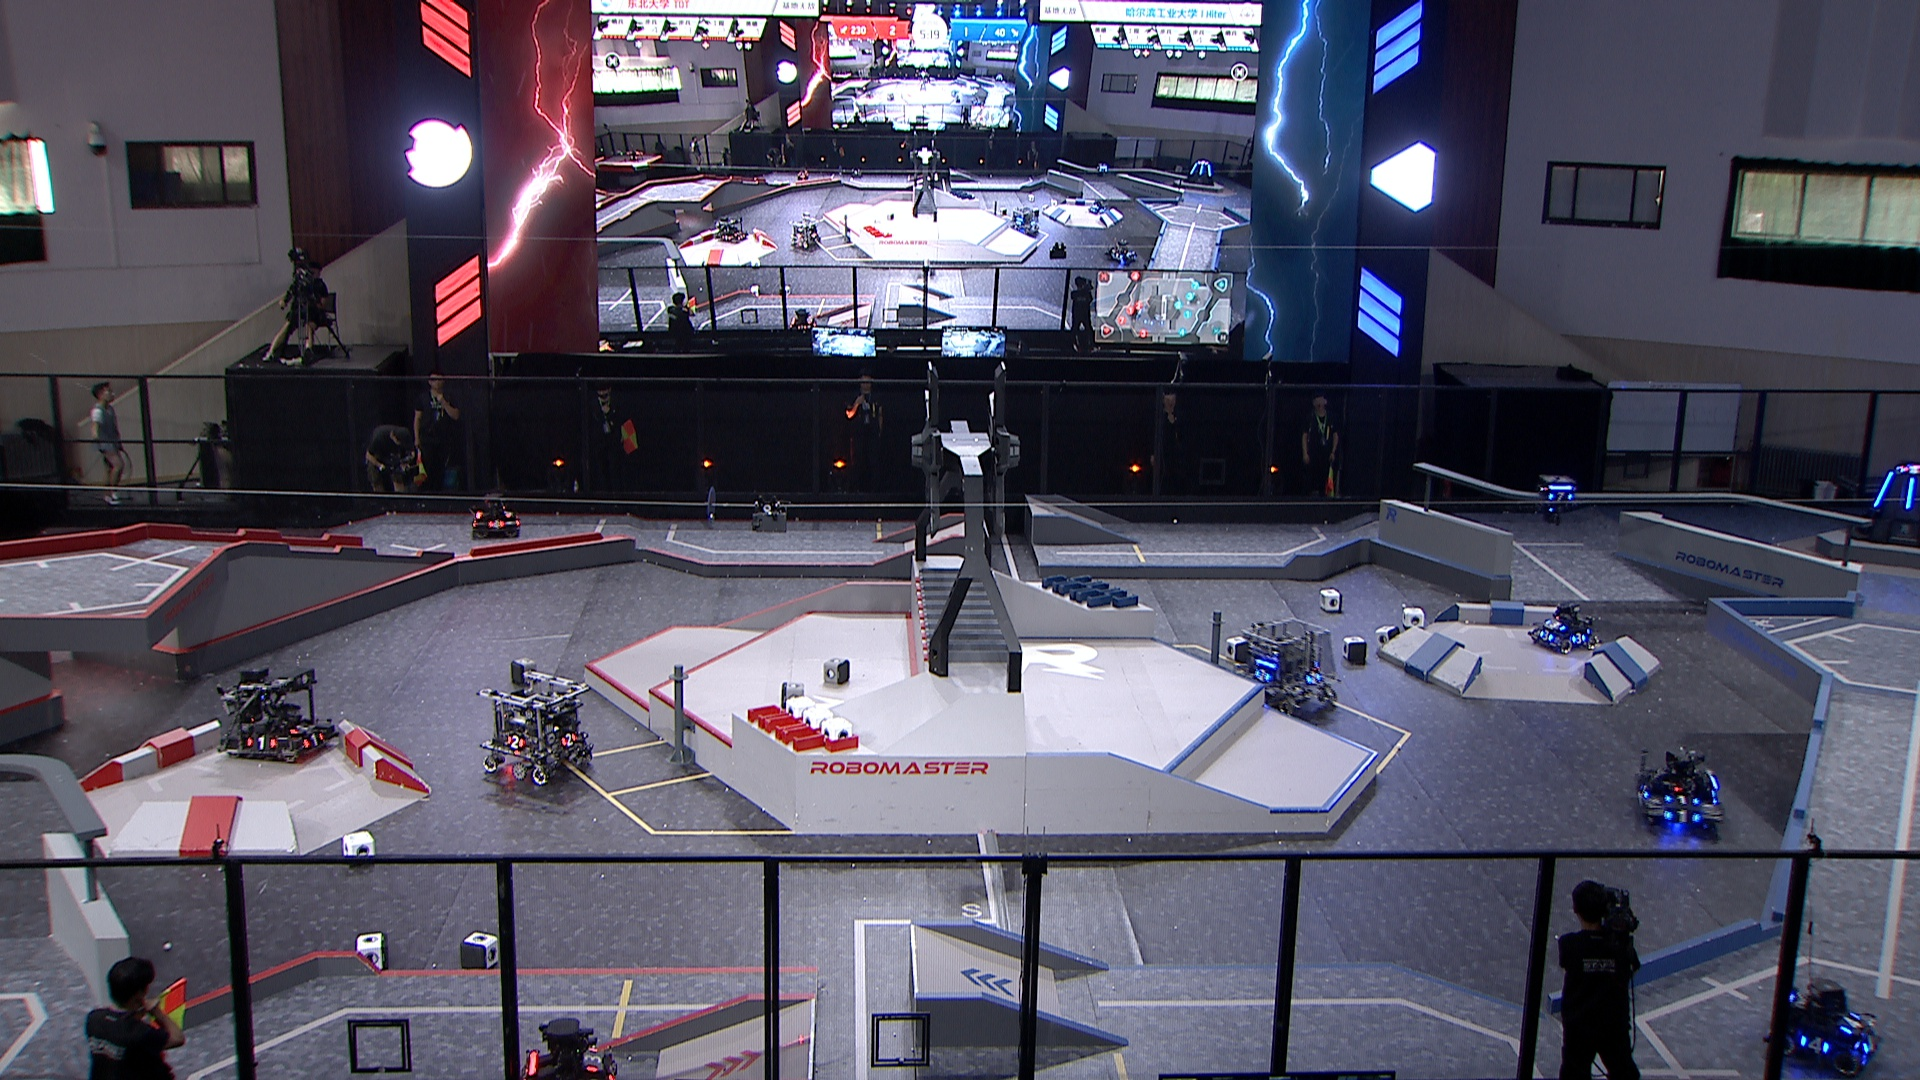armor: (1870, 469, 1894, 505), (1799, 1033, 1830, 1055), (582, 1044, 603, 1072), (1665, 808, 1695, 827), (245, 736, 277, 752), (1844, 1011, 1866, 1031), (1861, 1035, 1880, 1058), (1903, 475, 1917, 505), (291, 717, 311, 738), (1665, 793, 1698, 804), (305, 731, 324, 749), (504, 735, 524, 750), (604, 1058, 617, 1080), (1305, 669, 1323, 684), (560, 731, 576, 746), (1255, 669, 1273, 683), (489, 517, 505, 531), (1636, 783, 1650, 800), (1551, 491, 1575, 500), (1539, 629, 1553, 642), (1572, 632, 1588, 644), (1545, 618, 1561, 628), (500, 508, 514, 517)
base: (1854, 456, 1920, 553)
car: (475, 665, 596, 789), (215, 662, 334, 765), (1759, 978, 1879, 1076), (1232, 613, 1342, 717), (1629, 746, 1733, 844), (514, 1010, 618, 1080), (1532, 597, 1598, 655), (472, 489, 527, 541)
ignore: (789, 216, 825, 249), (1179, 158, 1218, 186), (1007, 206, 1038, 237), (712, 215, 746, 243), (1105, 237, 1135, 262), (1087, 194, 1106, 211), (1898, 462, 1920, 476), (1093, 161, 1109, 179), (793, 164, 808, 179)
watcher: (1531, 472, 1585, 527)
